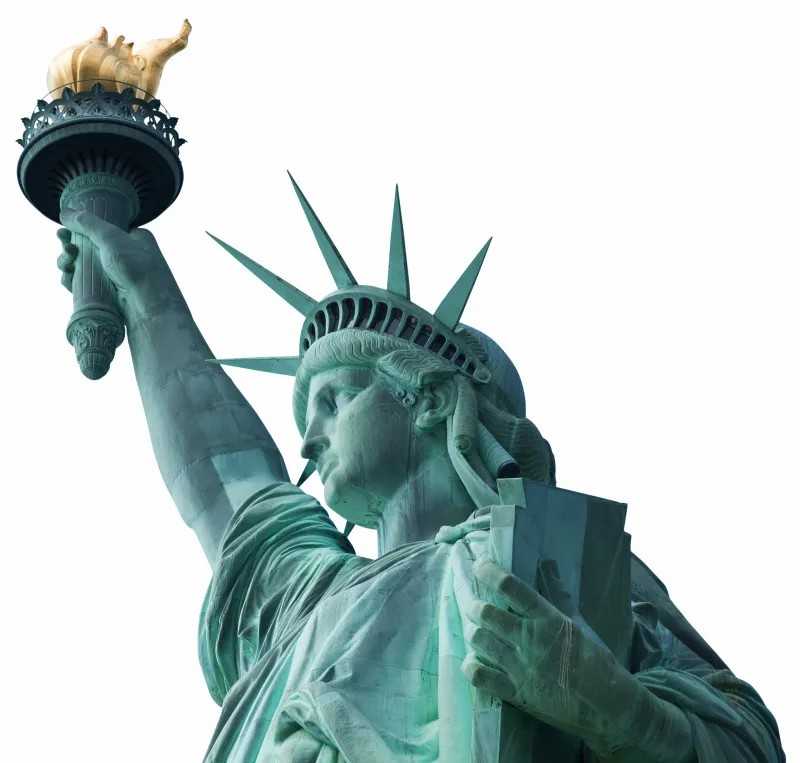SL: (16, 17, 788, 763)
